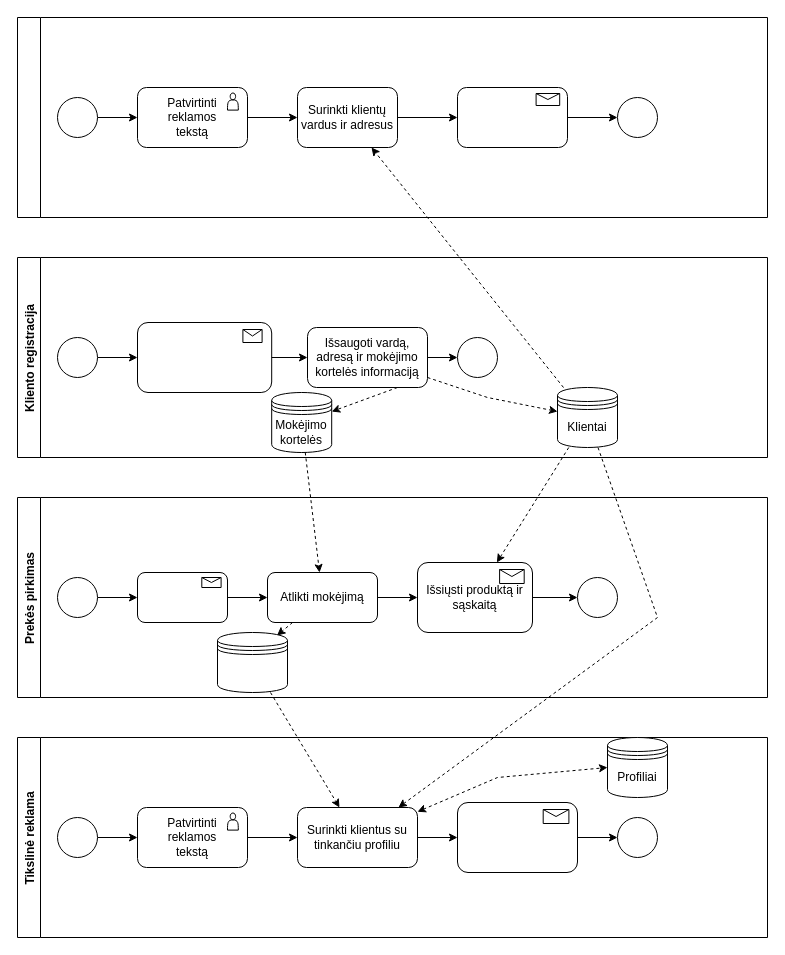
Some shapes in this 785 by 955 pixel diagram are drawn without their labels. Each missing label, with the box of its shape:
Gauti užsakymą: (136, 572, 228, 622)
Gauti vardą, adresą ir mokėjimo informaciją: (136, 322, 272, 392)
Išsiųsti standartinę reklamą klientui: (456, 86, 568, 148)
Išsiųsti tikslinę reklamą klientui: (456, 802, 578, 872)
Masinė reklama: (16, 16, 768, 218)
Užsakymai: (216, 632, 288, 692)
